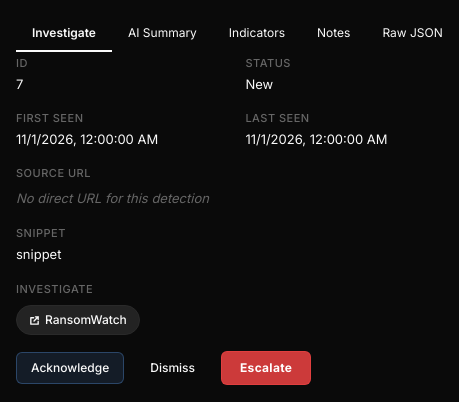
Test case: DetectionDetail AI tab › maps 503 to the disabled message
Click the button "AI Summary": (162, 34) left=112, top=16, right=213, bottom=52
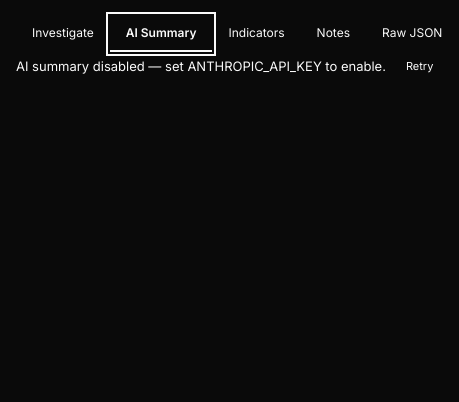
Expected: the text "AI summary disabled — set ANTHROPIC_API_KEY to enable." is shown, left=16, top=56, right=386, bottom=77
